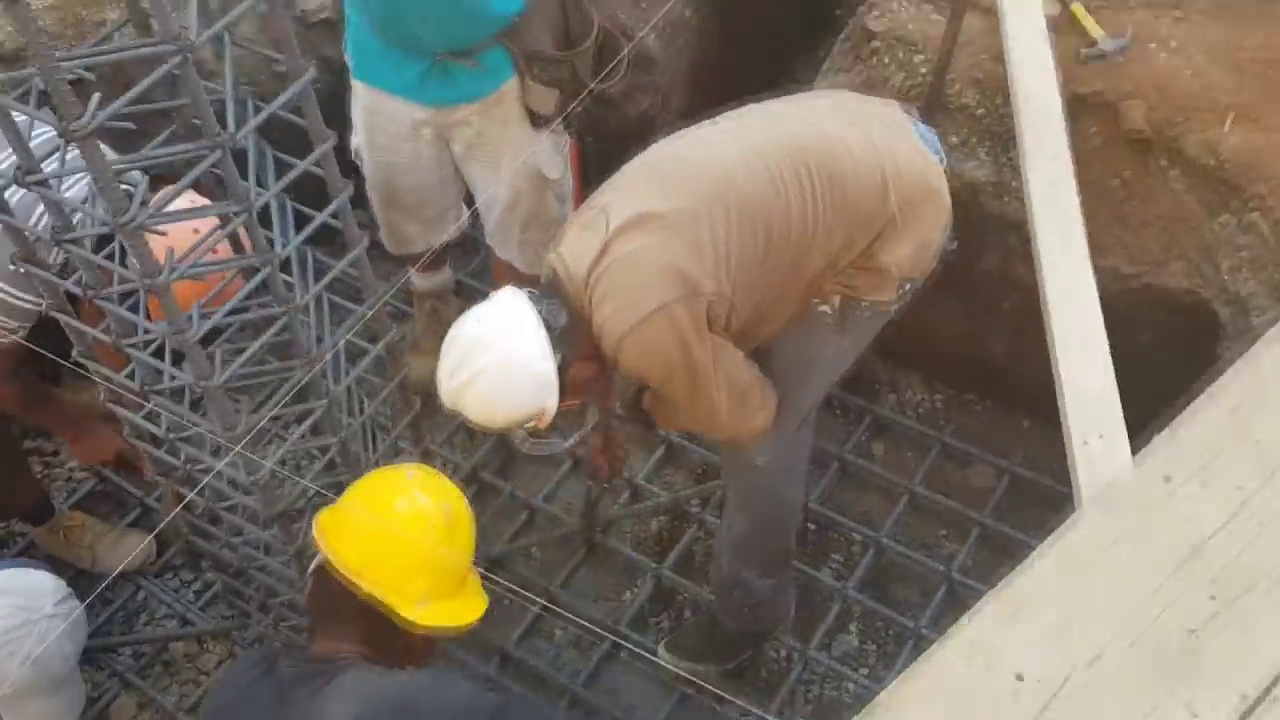helmet: (318, 461, 472, 644), (121, 186, 251, 334), (443, 288, 555, 441)
helmet-on: (286, 458, 490, 669), (70, 159, 255, 370), (429, 273, 626, 448)
person: (430, 86, 986, 682), (0, 95, 256, 575), (328, 0, 594, 341), (194, 453, 494, 717), (1, 550, 92, 707)
